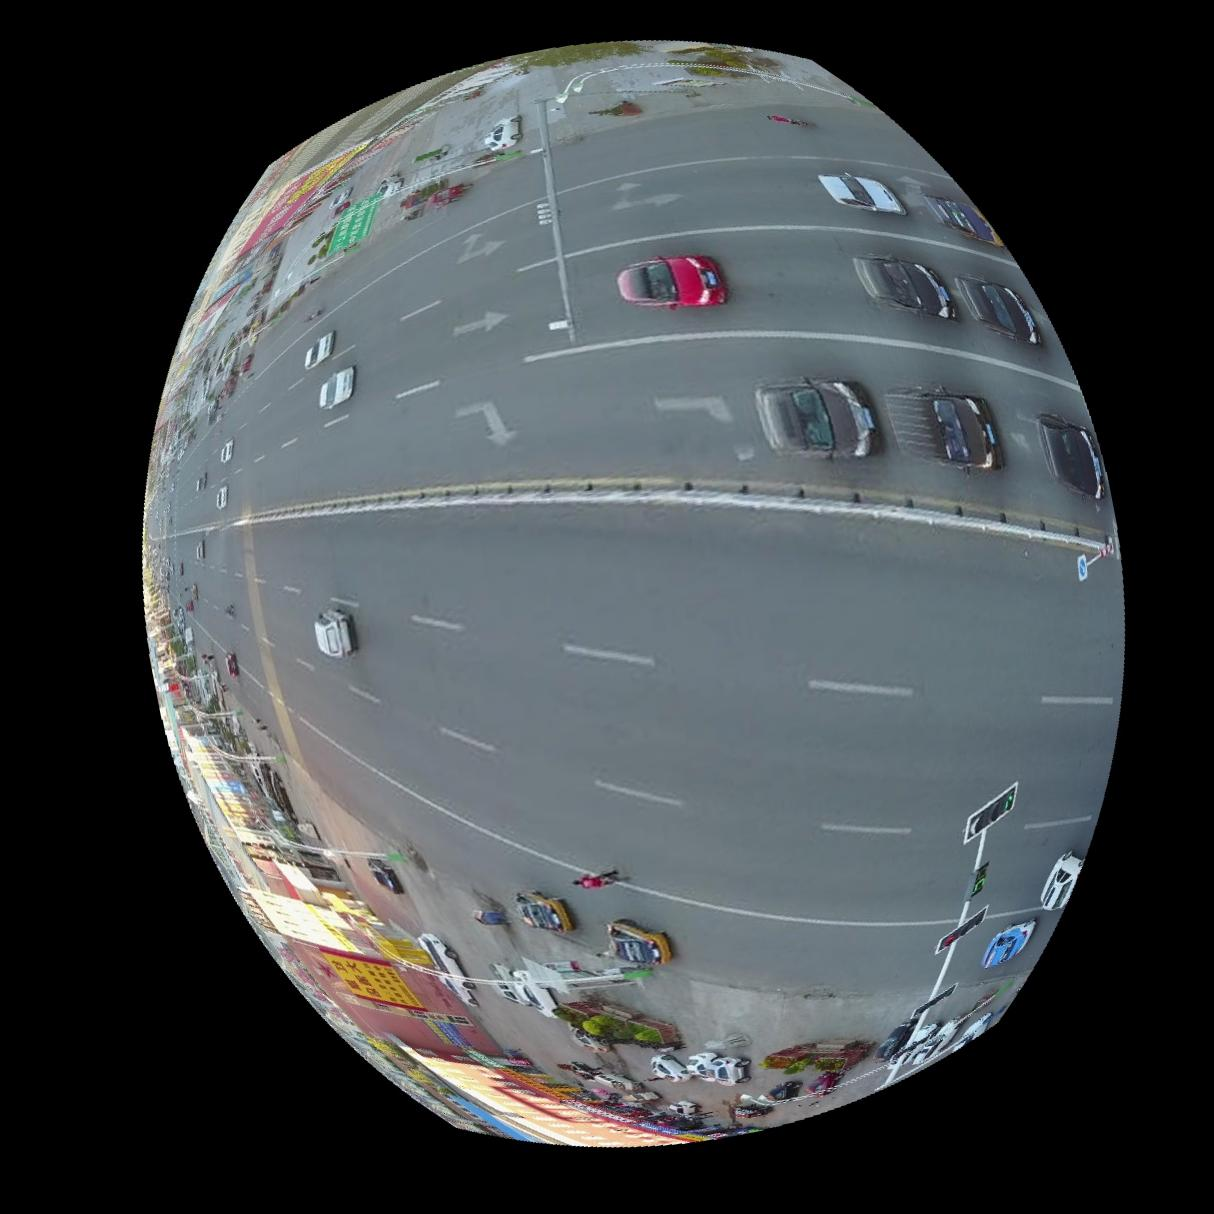building: (161, 679, 495, 1104), (407, 1049, 704, 1148)
cars: (886, 384, 1004, 472), (755, 375, 880, 457), (855, 251, 957, 319), (616, 251, 727, 308), (1037, 411, 1107, 499), (956, 276, 1042, 342), (923, 191, 1004, 243), (819, 170, 907, 213), (607, 918, 673, 965), (984, 919, 1037, 968), (1043, 850, 1085, 912), (515, 892, 575, 934), (314, 607, 356, 657), (319, 365, 354, 406), (303, 329, 334, 369)
